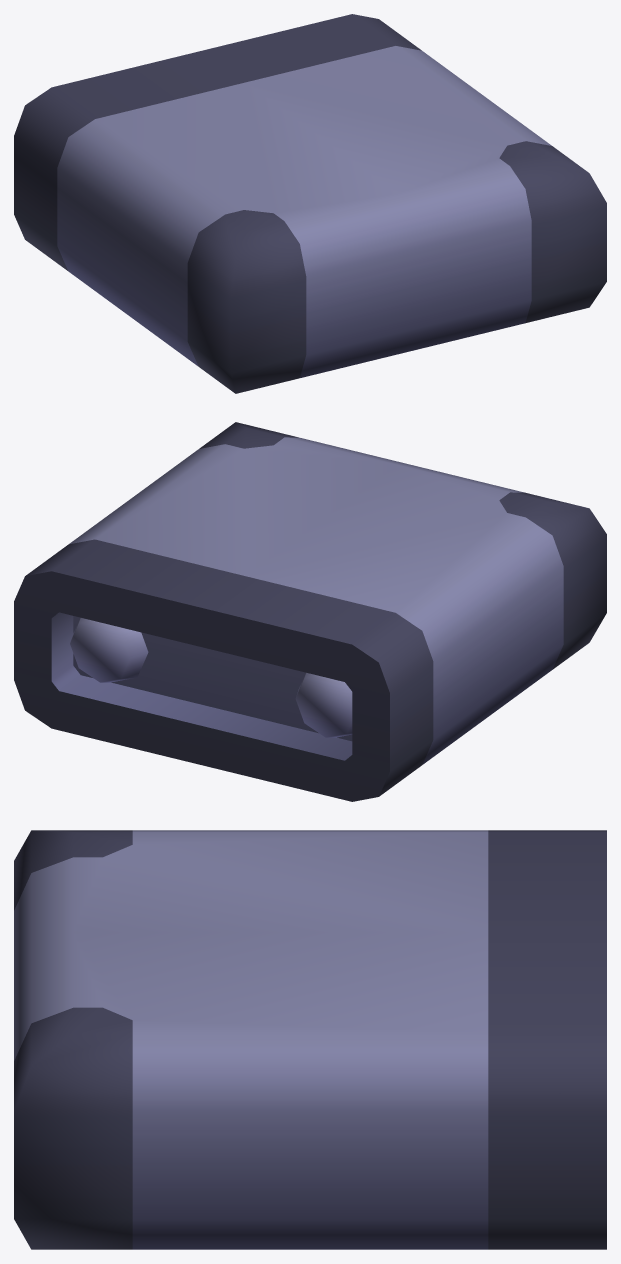
Rendered from kenney-factory-conveyor-stripe-junction-t.glb.
3 renders of one model, top to bottom at view 1: azimuth 30°, elevation 25°; view 2: azimuth 150°, elevation 25°; view 3: azimuth 270°, elevation 25°, orthographic. The views are drawn at different scales.
Parts seen in each view (by area): view 1: conveyor-stripe-junction-t; view 2: conveyor-stripe-junction-t; view 3: conveyor-stripe-junction-t.
Part boxes in pixels (box(x1,y1,x2,y2)): conveyor-stripe-junction-t: box(14, 14, 606, 393); conveyor-stripe-junction-t: box(14, 422, 606, 801); conveyor-stripe-junction-t: box(14, 830, 606, 1249).
Size of the model in its own units: 1 by 0.3999 by 1.
Materials: 1 (1 with a texture image).
